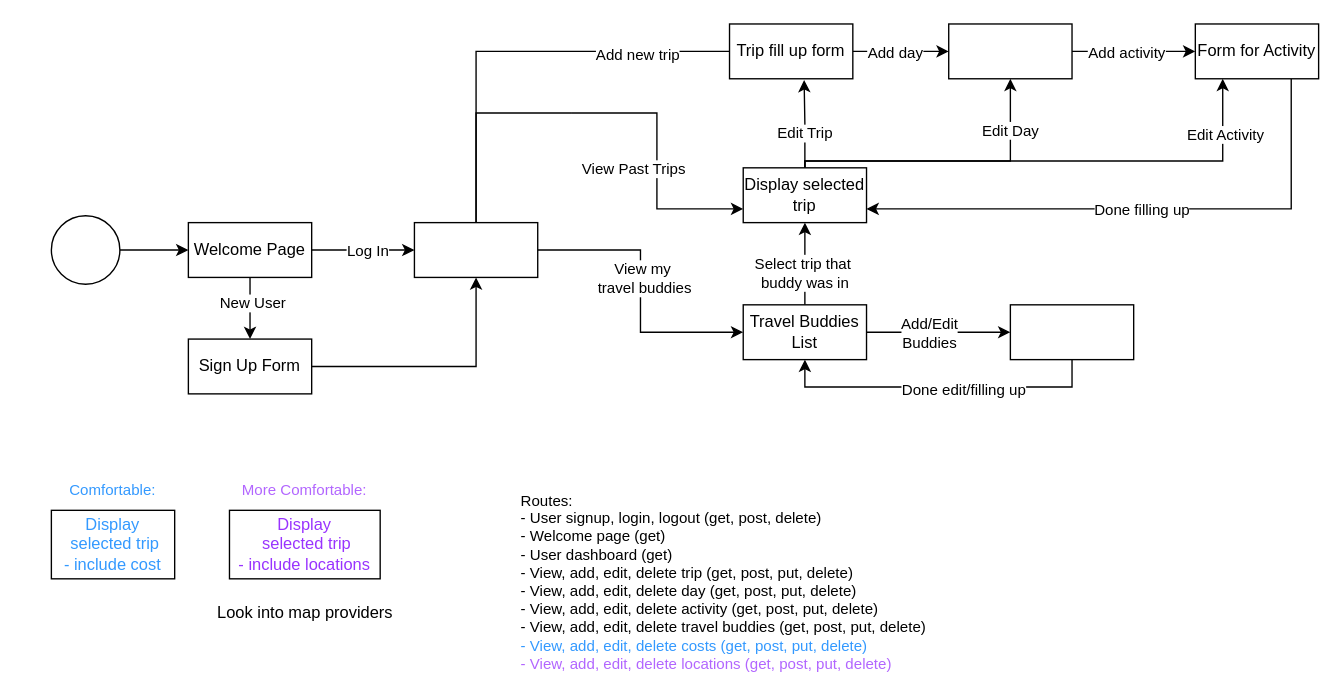
This 1343x699 diagram has some shape labels left out. The centre of each missing label's shape, as x and y in pixels:
Buddy form: pixel 1071 331
Form for Day: pixel 1009 51
Start: pixel 85 249
User Dashboard: pixel 475 249
